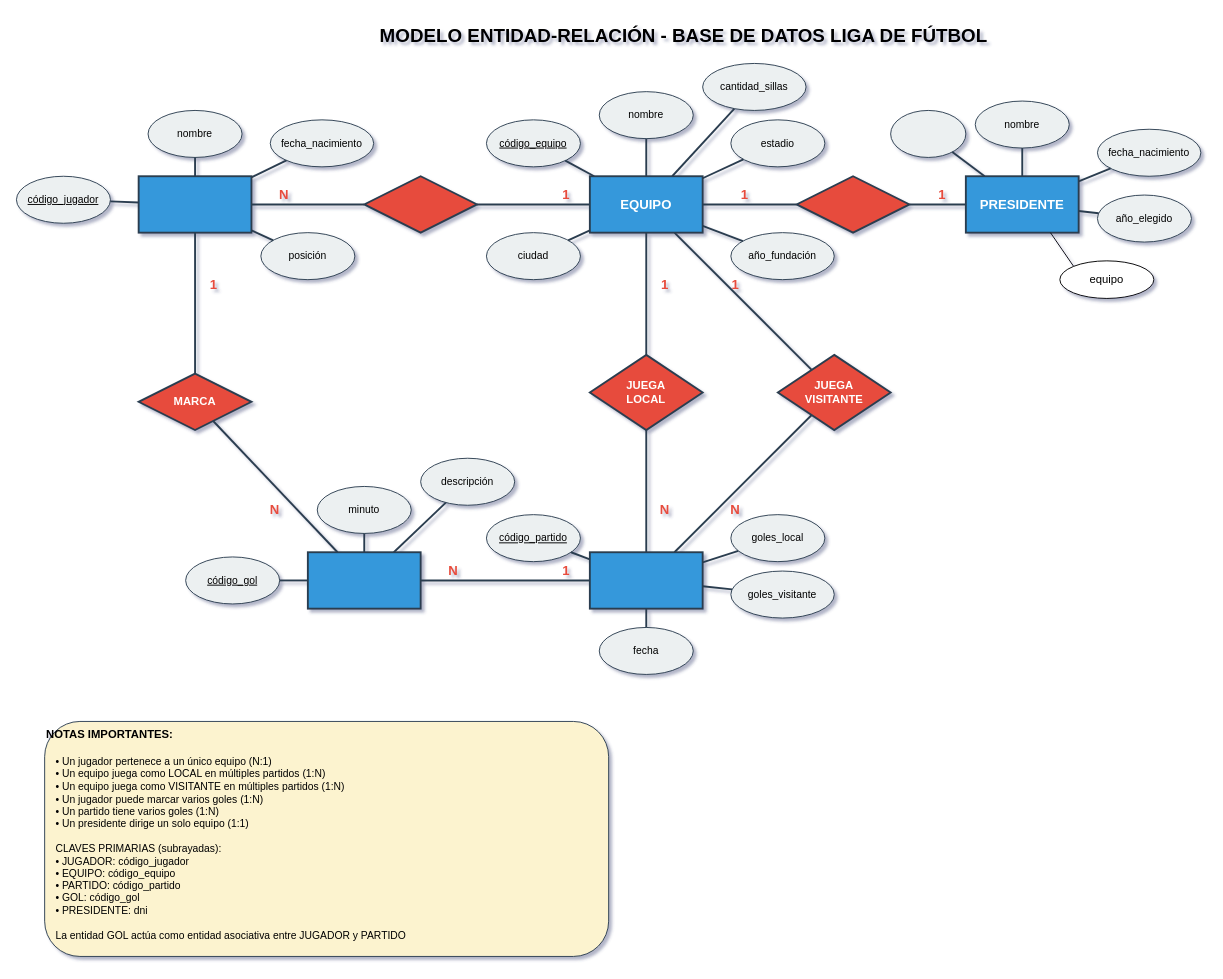
Some shapes in this 1223 by 979 pixel diagram are drawn without their labels. Each missing label, with the centre of its shape:
dni: (928,133)
GOL: (363,580)
JUGADOR: (194,204)
PARTIDO: (645,580)
PERTENECE: (420,204)
PRESIDE: (852,204)
